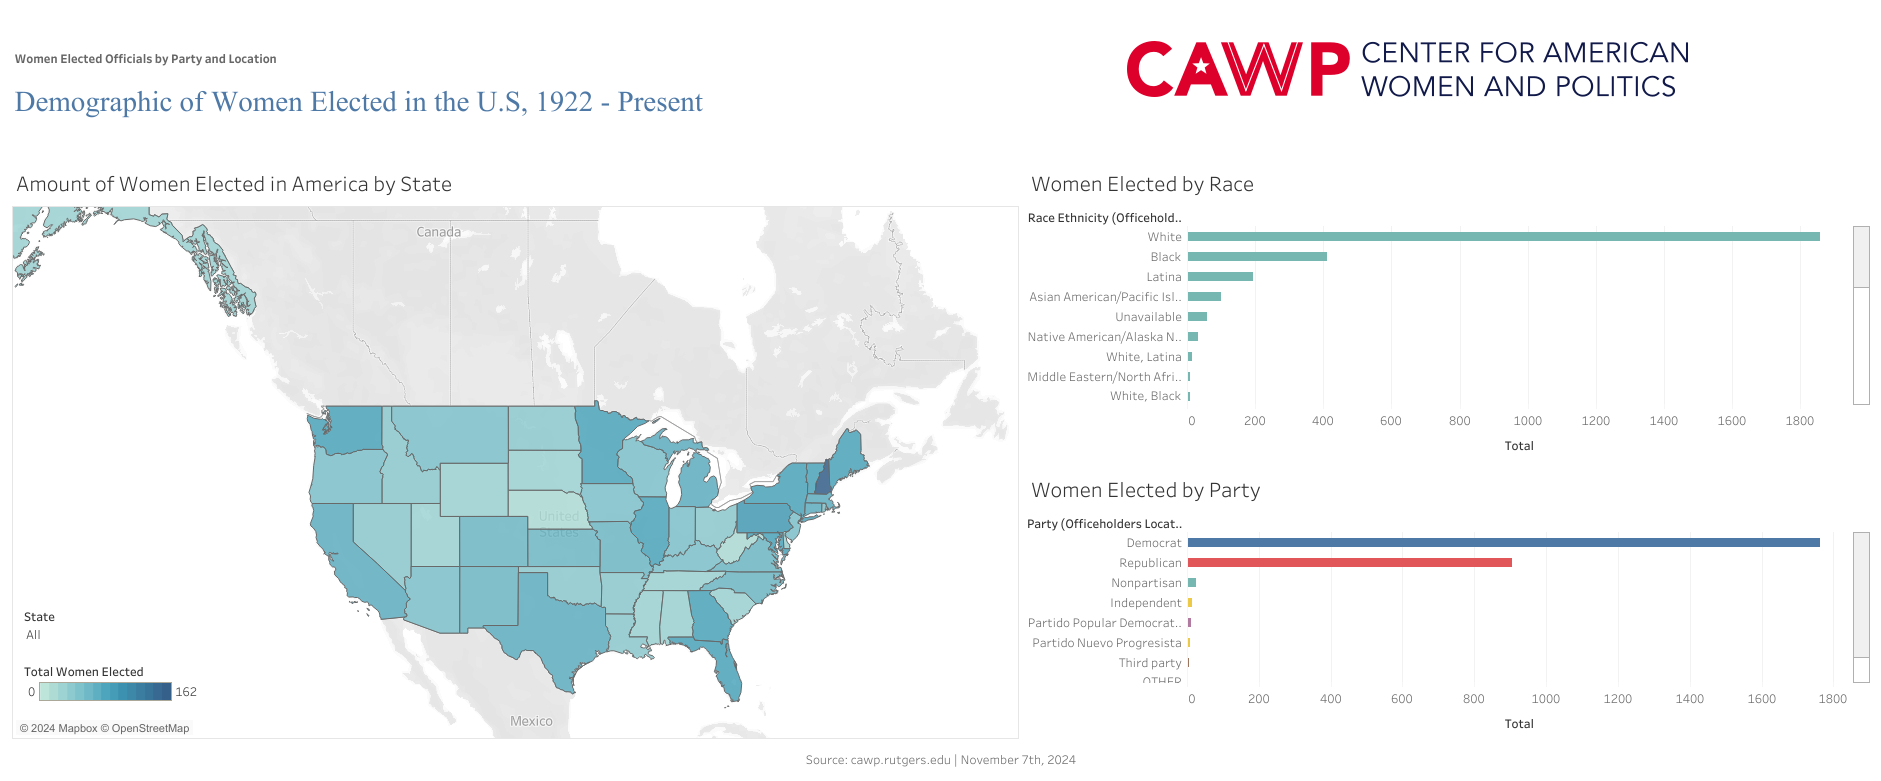

Layout of this report page (visuals, bound fields, positions):
{"tool":"tableau","page":{"name":"Dashboard 2","canvas":[1000,1000],"units":"permille","ordinal":0},"visuals":[{"type":"image","param":"Image/league_logo3.jpg","box":[5.2,8.3,230.2,219.8]},{"type":"text","box":[235.4,8.3,758.2,100]},{"type":"text","box":[235.4,108.4,758.2,42.1]},{"type":"image","param":"Image/top.png","box":[236,151.5,71,75.6]},{"type":"text","box":[307,151.5,80.5,75.6]},{"type":"image","param":"Image/jungle.png","box":[388.8,151.5,69.7,75.6]},{"type":"text","box":[458.5,151.5,61.3,75.6]},{"type":"image","param":"Image/mid.png","box":[531.9,151.5,78.1,75.6]},{"type":"text","box":[609.9,151.5,76.6,75.6]},{"type":"image","param":"Image/supp.png","box":[687.9,151.5,81.9,75.6]},{"type":"text","box":[769.8,151.5,69,75.6]},{"type":"image","param":"Image/bottom.png","box":[840.1,151.5,43.8,75.6]},{"type":"text","box":[883.9,151.5,109,75.6]},{"type":"worksheet","title":"Sheet 1","mark":"Automatic","rows":["Name"],"cols":["Pick %","Pick %"],"box":[5.2,228.2,352.6,381.8]},{"type":"worksheet","title":"Sheet 2","mark":"Automatic","rows":["Name","Role"],"cols":["Win %","Win %"],"box":[357.8,228.2,419,381.8]},{"type":"worksheet","title":"Sheet 4","mark":"Shape","rows":["Name"],"cols":["Role"],"box":[776.8,228.2,218.1,763.5]},{"type":"worksheet","title":"Sheet 3","mark":"Automatic","rows":["Name"],"cols":["Ban %","Ban %"],"box":[5.2,609.9,352.6,381.8]},{"type":"worksheet","title":"Sheet 5","mark":"Automatic","rows":["Role"],"cols":["Win %","Win %"],"box":[357.8,609.9,419,381.8]}]}

Visuals, with their boxes on the dashboard's canvas, which has no fixed pixel size, in thousandths of its width and height (x1, y1, x2, y2). These are canvas units, not pixel positions in the 1881x781 screenshot, which may show the page scaled, cropped or inside an application window:
image: [x1=5, y1=8, x2=235, y2=228]
text: [x1=235, y1=8, x2=994, y2=108]
text: [x1=235, y1=108, x2=994, y2=150]
image: [x1=236, y1=152, x2=307, y2=227]
text: [x1=307, y1=152, x2=388, y2=227]
image: [x1=389, y1=152, x2=458, y2=227]
text: [x1=458, y1=152, x2=520, y2=227]
image: [x1=532, y1=152, x2=610, y2=227]
text: [x1=610, y1=152, x2=686, y2=227]
image: [x1=688, y1=152, x2=770, y2=227]
text: [x1=770, y1=152, x2=839, y2=227]
image: [x1=840, y1=152, x2=884, y2=227]
text: [x1=884, y1=152, x2=993, y2=227]
"Sheet 1" worksheet: [x1=5, y1=228, x2=358, y2=610]
"Sheet 2" worksheet: [x1=358, y1=228, x2=777, y2=610]
"Sheet 4" worksheet (Shape marks): [x1=777, y1=228, x2=995, y2=992]
"Sheet 3" worksheet: [x1=5, y1=610, x2=358, y2=992]
"Sheet 5" worksheet: [x1=358, y1=610, x2=777, y2=992]
